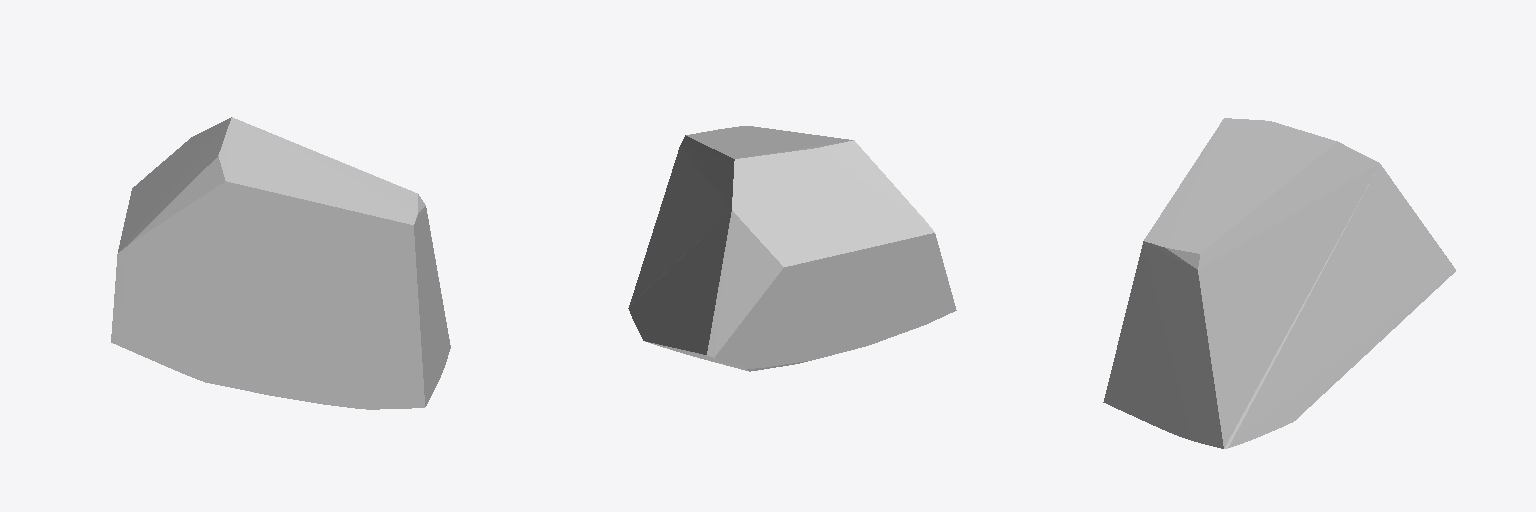
Rendered from Sphere_Cell_Fracture46.obj.
3 views of the same model, side by side, from view 1: azimuth 30°, elevation 25°; view 2: azimuth 150°, elevation 25°; view 3: azimuth 270°, elevation 25° (orthographic).
Size of the model in its own units: 0.5886 by 0.3934 by 0.5395.